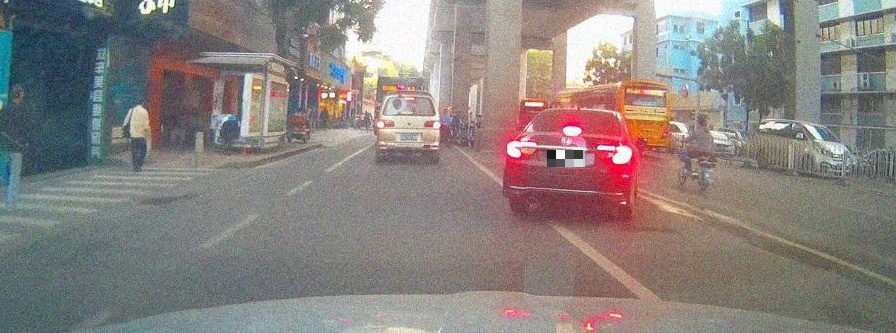L_light: (506, 141, 537, 158), (376, 119, 395, 128)
R_light: (597, 144, 632, 165), (424, 120, 440, 129)
T_light: (563, 126, 581, 137), (405, 97, 414, 100)
day-brake: (376, 91, 441, 165)
day-right: (503, 108, 633, 219)
plate_1: (547, 150, 585, 167)
